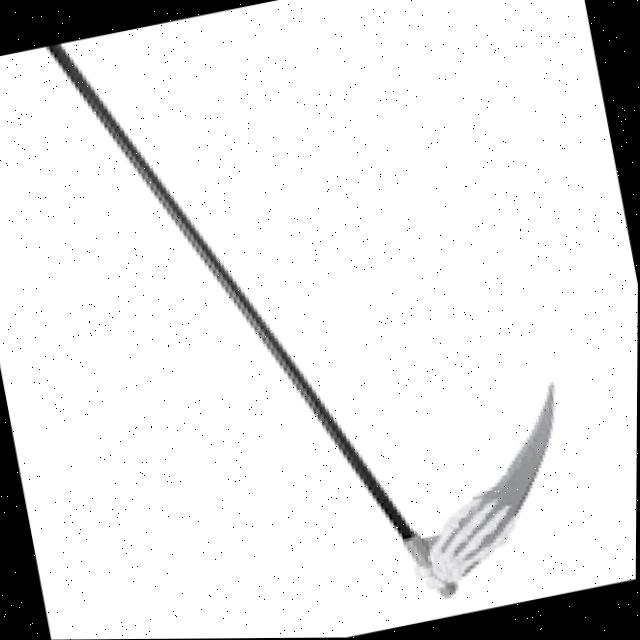sickle: (28, 0, 629, 640)
